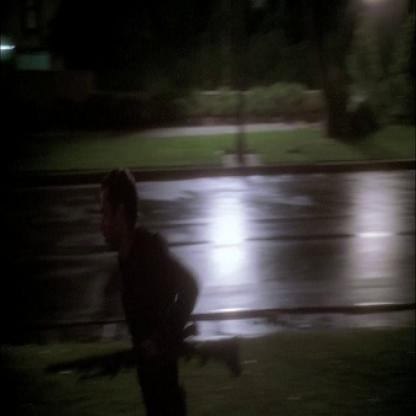Guns: (46, 322, 242, 396)
